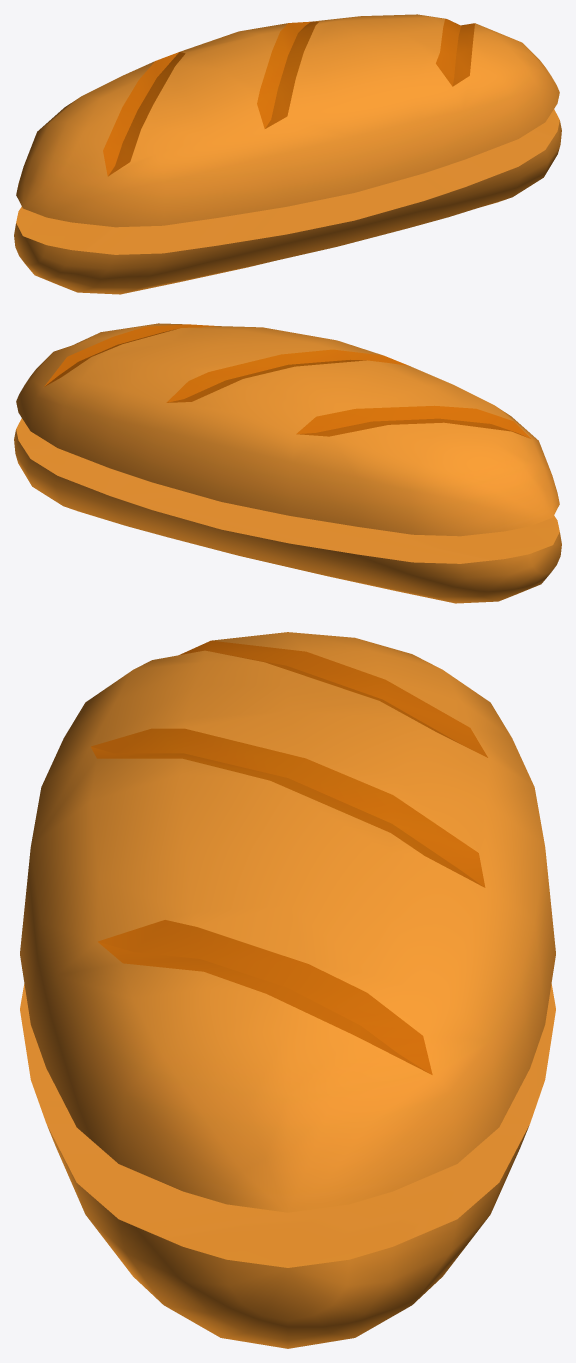
File: Sandwich_Loaf_top.002.fbx
The picture shows the model from 3 angles, top to bottom: view 1: azimuth 30°, elevation 25°; view 2: azimuth 150°, elevation 25°; view 3: azimuth 270°, elevation 25°; orthographic projection. The views are drawn at different scales.
Parts seen in each view (by area): view 1: Sandwich_Loaf_top.002, Sandwich_Loaf_Bottom.002; view 2: Sandwich_Loaf_top.002, Sandwich_Loaf_Bottom.002; view 3: Sandwich_Loaf_top.002, Sandwich_Loaf_Bottom.002.
Part boxes in pixels (x1,y1,x2,y2): Sandwich_Loaf_top.002: (16,14,559,227); Sandwich_Loaf_Bottom.002: (14,109,561,294); Sandwich_Loaf_top.002: (16,323,559,536); Sandwich_Loaf_Bottom.002: (14,418,561,603); Sandwich_Loaf_top.002: (20,632,555,1212); Sandwich_Loaf_Bottom.002: (20,984,555,1348).
Bounding box in the file's own units: 172 × 58.21 × 75.14.
